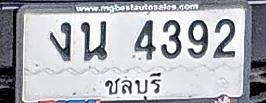2: (213, 18, 235, 57)
3: (161, 20, 181, 58)
4: (134, 20, 155, 60)
9: (187, 19, 208, 58)
A07: (49, 21, 71, 61)
A25: (80, 20, 107, 61)
CBI: (99, 69, 164, 100)
